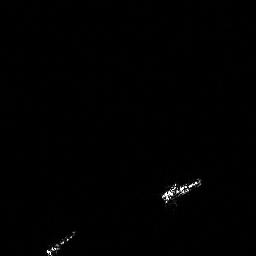ship: (162, 179, 203, 201), (46, 232, 77, 254)
